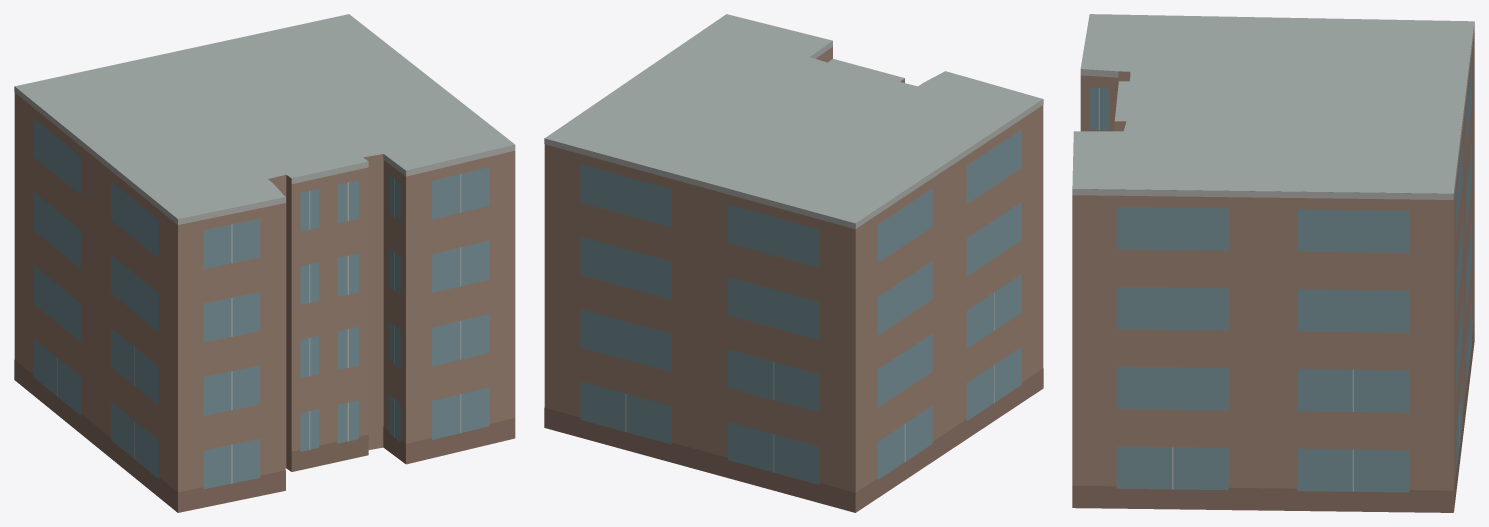
File: survey-upis-32855378.glb
3 renders of one model, left to right at view 1: azimuth 30°, elevation 25°; view 2: azimuth 150°, elevation 25°; view 3: azimuth 270°, elevation 25°, orthographic. The views are drawn at different scales.
Parts seen in each view (by area): view 1: survey-upis-32855378.tmp; view 2: survey-upis-32855378.tmp; view 3: survey-upis-32855378.tmp.
Part boxes in pixels (x1,y1,x2,y2): survey-upis-32855378.tmp: [14, 14, 515, 512]; survey-upis-32855378.tmp: [544, 14, 1043, 512]; survey-upis-32855378.tmp: [1072, 14, 1474, 512].
Bounding box in the file's own units: 14.73 × 12.2 × 13.94.
